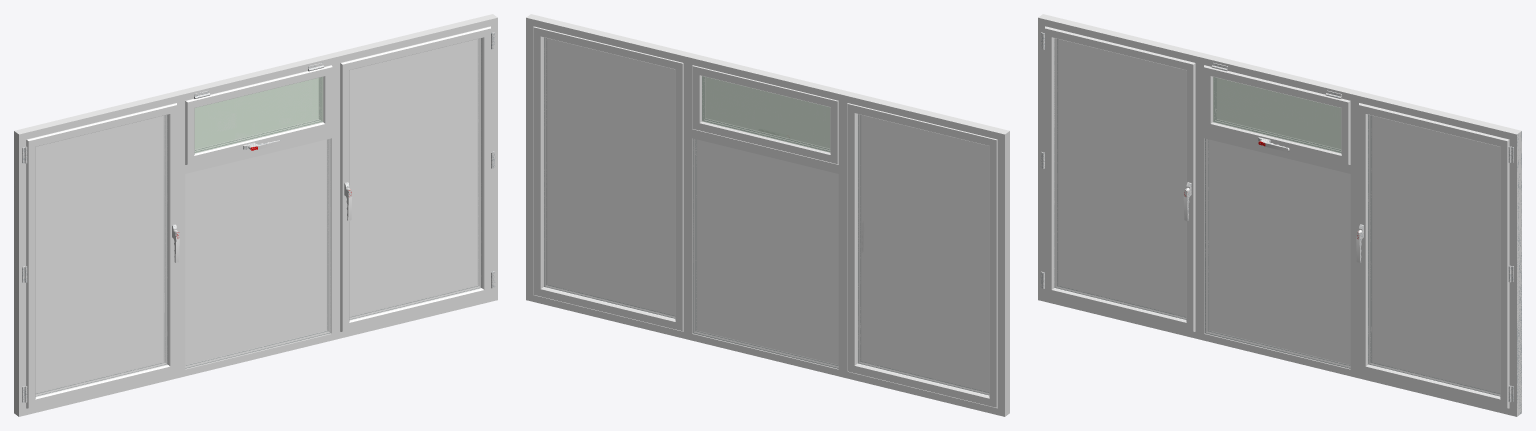
Rendered from Window1_220x124x[3 casement].dae.
The picture shows the model from 3 angles, left to right: view 1: azimuth 30°, elevation 25°; view 2: azimuth 150°, elevation 25°; view 3: azimuth 330°, elevation 25°; orthographic projection.
Parts seen in each view (by area): view 1: group_16 (×4), group_19 (×4), group_17 (×6), group_8 (×2), group_7 (×2); view 2: group_16 (×4), group_19 (×4), group_17 (×6), group_8 (×2), group_7 (×2); view 3: group_16 (×4), group_19 (×5), group_17 (×6), group_8 (×2), group_7 (×2).
Boxes of the visible parts, bbox=[...] form: group_16 (×4): bbox=[35, 38, 481, 396]; group_19 (×4): bbox=[14, 14, 497, 416]; group_17 (×6): bbox=[26, 26, 490, 408]; group_8 (×2): bbox=[194, 77, 323, 153]; group_7 (×2): bbox=[185, 65, 332, 164]; group_16 (×4): bbox=[544, 37, 989, 395]; group_19 (×4): bbox=[526, 14, 1009, 416]; group_17 (×6): bbox=[533, 26, 997, 407]; group_8 (×2): bbox=[702, 76, 830, 152]; group_7 (×2): bbox=[692, 65, 838, 164]; group_16 (×4): bbox=[1054, 38, 1500, 396]; group_19 (×5): bbox=[1038, 14, 1521, 416]; group_17 (×6): bbox=[1045, 26, 1509, 408]; group_8 (×2): bbox=[1213, 77, 1341, 153]; group_7 (×2): bbox=[1204, 65, 1350, 164].
Bounding box in the file's own units: 86.63 × 3.55 × 48.82.
